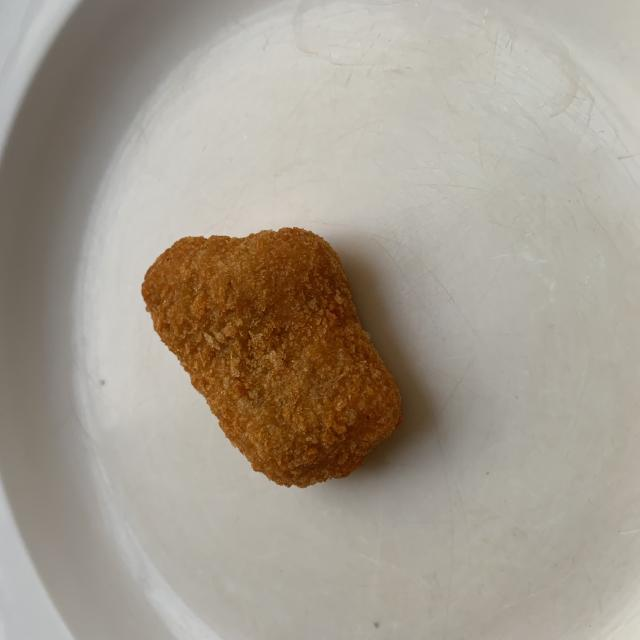Frango: (140, 227, 397, 487)
